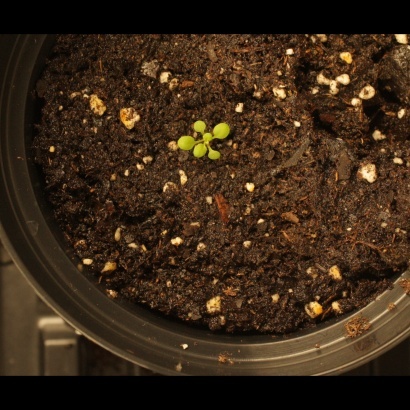leaf: (214, 120, 237, 143), (209, 147, 232, 170), (175, 132, 198, 155), (190, 142, 213, 165), (195, 129, 218, 152), (186, 116, 209, 139)
